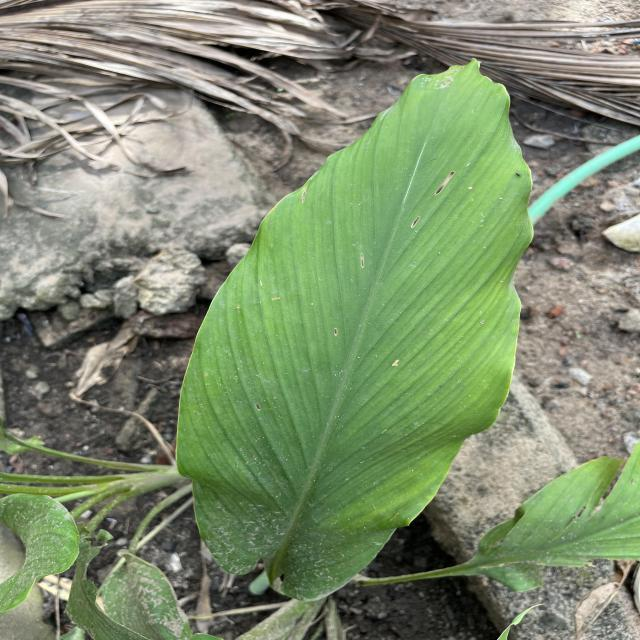Curcuma longa: (170, 56, 538, 604)
